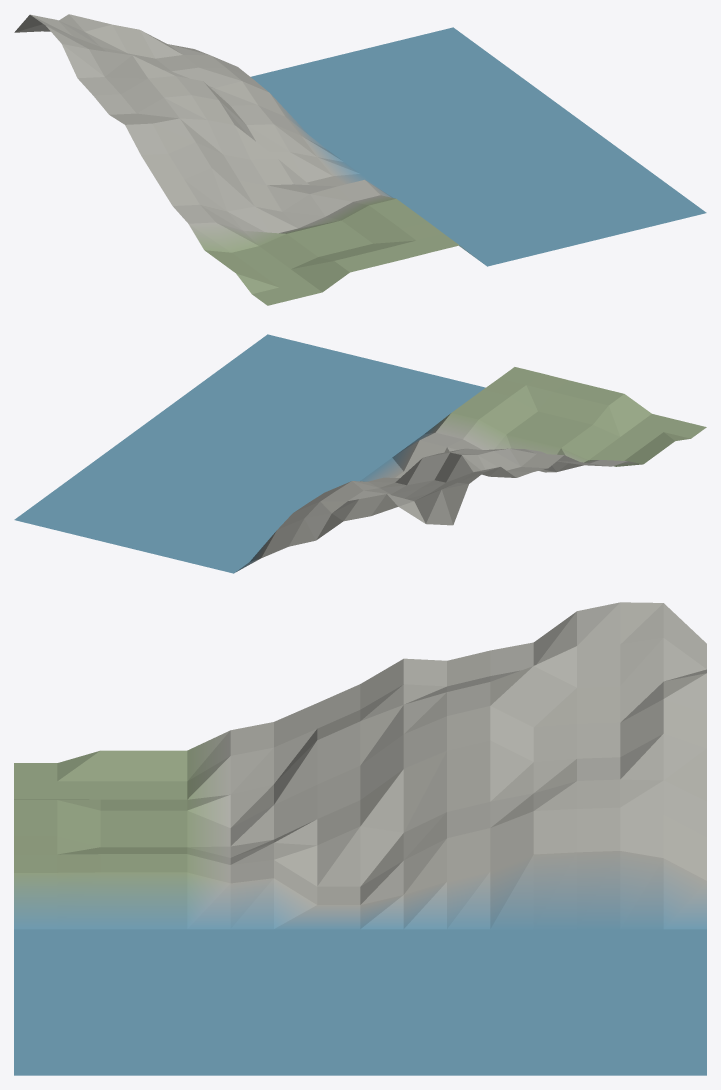
3 views of the same model, one above another, from view 1: azimuth 30°, elevation 25°; view 2: azimuth 150°, elevation 25°; view 3: azimuth 270°, elevation 25° (orthographic). The views are drawn at different scales.
Size of the model in its own units: 32 by 9.19 by 32.
